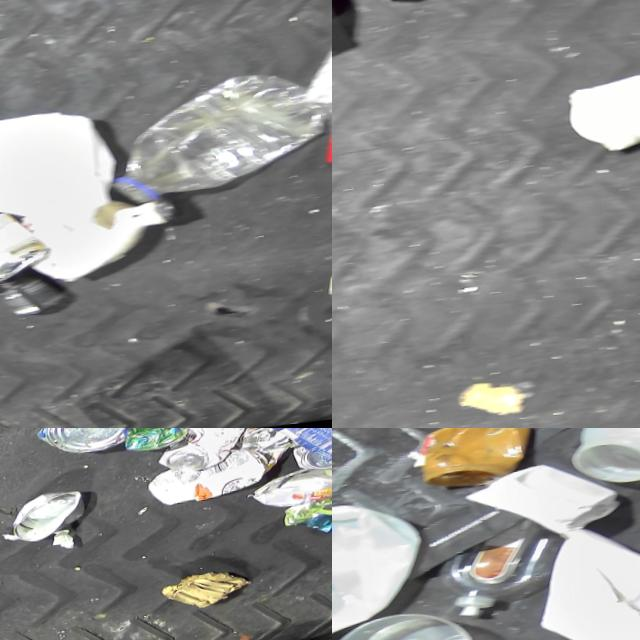can: (155, 428, 247, 481), (5, 493, 83, 549), (0, 208, 47, 295), (250, 472, 332, 518), (34, 428, 124, 464), (265, 428, 332, 476), (120, 428, 188, 457), (290, 449, 332, 480)
milk_jug: (0, 107, 121, 249), (332, 495, 428, 640)
plastic_bottle: (104, 70, 330, 214)
